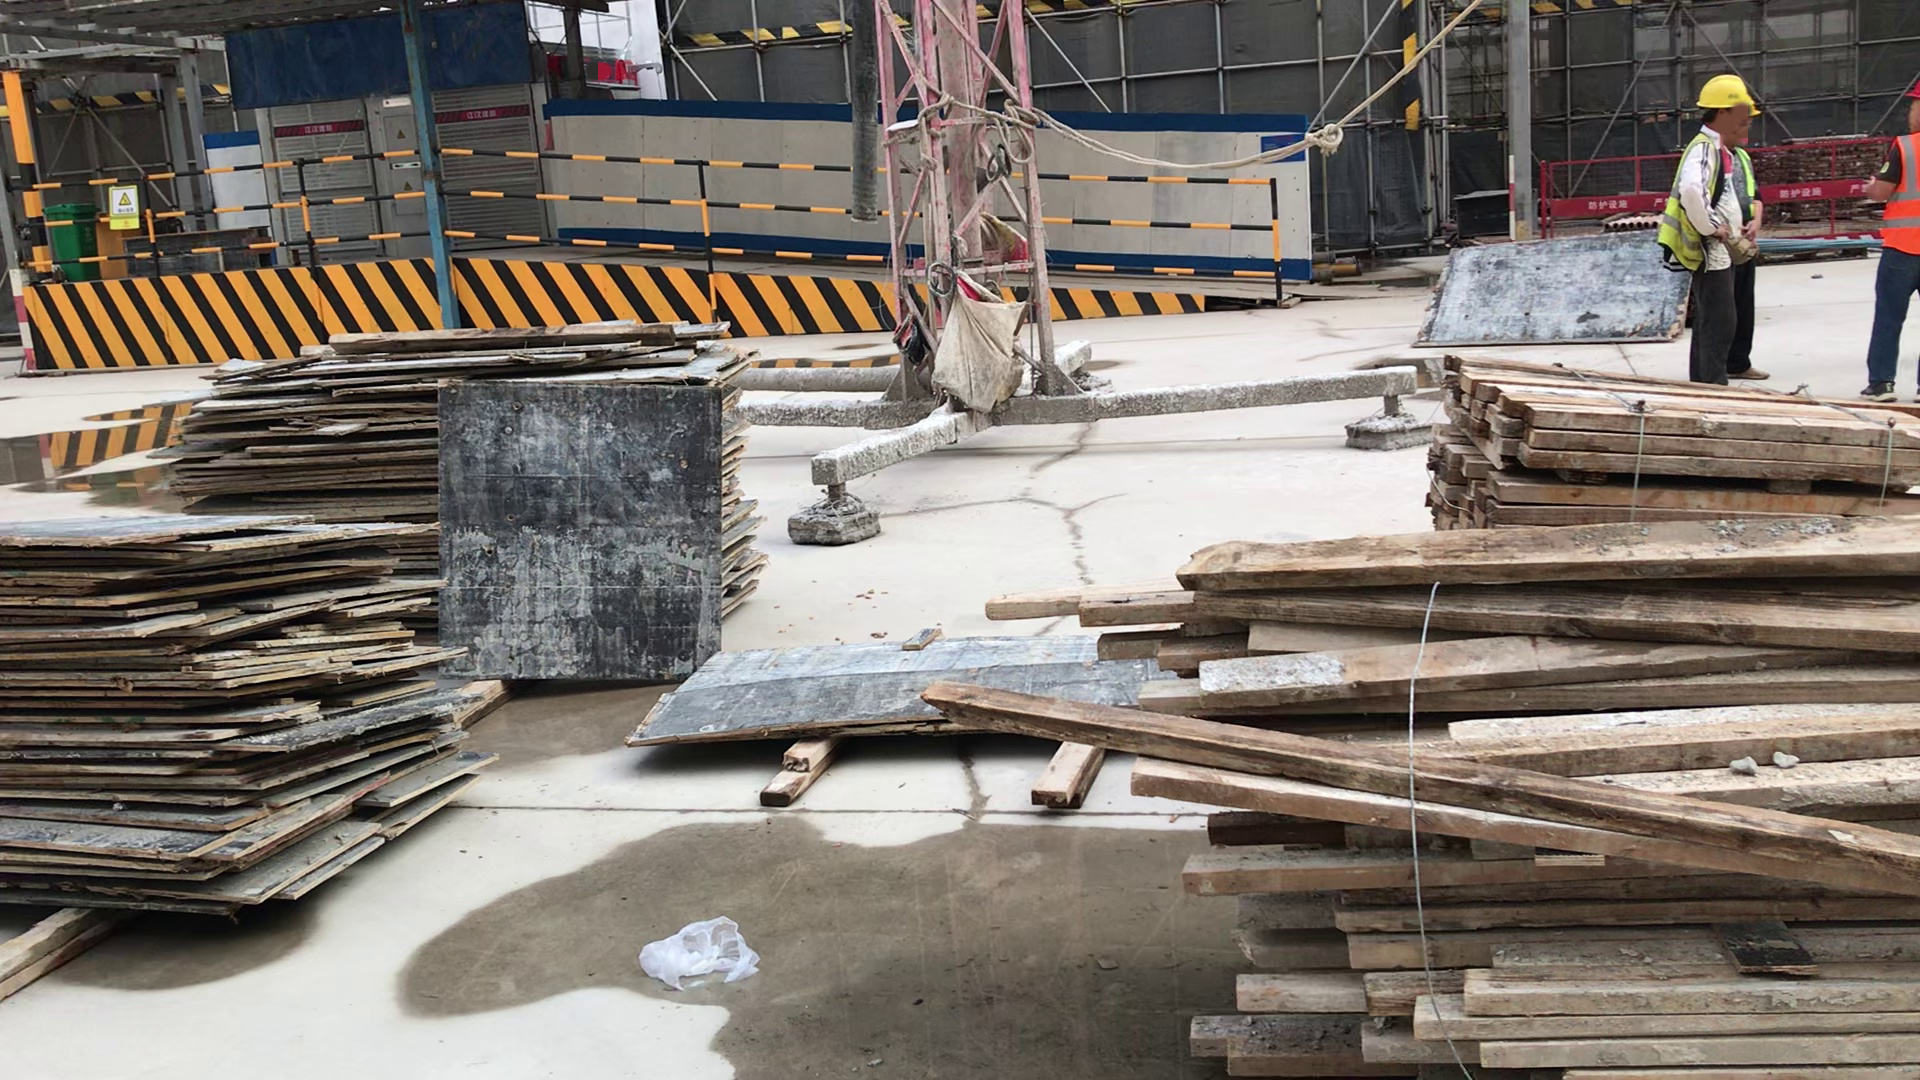board: (148, 315, 777, 689), (1, 509, 511, 923)
fence: (7, 141, 432, 252), (448, 148, 841, 263), (1050, 175, 1292, 282), (1756, 137, 1867, 241), (1539, 153, 1668, 220)
helmet: (1694, 76, 1754, 109), (1905, 83, 1920, 99)
person: (1656, 75, 1745, 386), (1868, 79, 1920, 407)
slogan: (103, 183, 142, 234), (461, 109, 497, 121), (304, 123, 334, 135)
vest: (1659, 134, 1725, 276), (1879, 131, 1920, 254)
wood: (899, 534, 1920, 1077), (1419, 349, 1920, 521)
